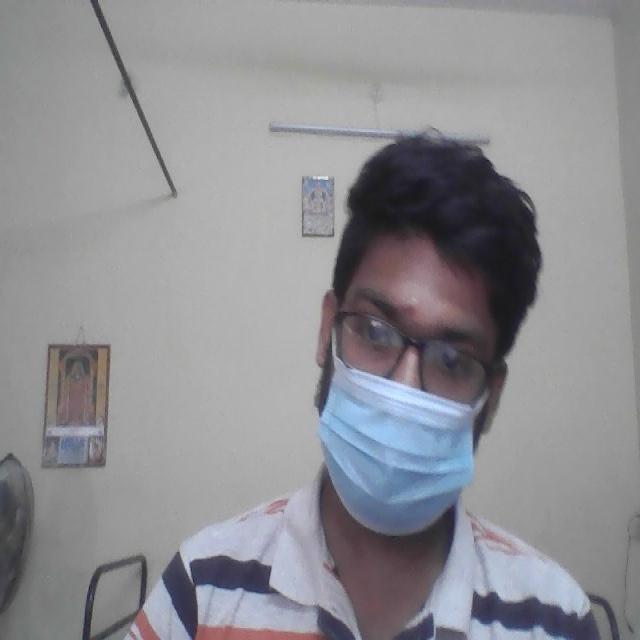Focused: (318, 250, 502, 526)
